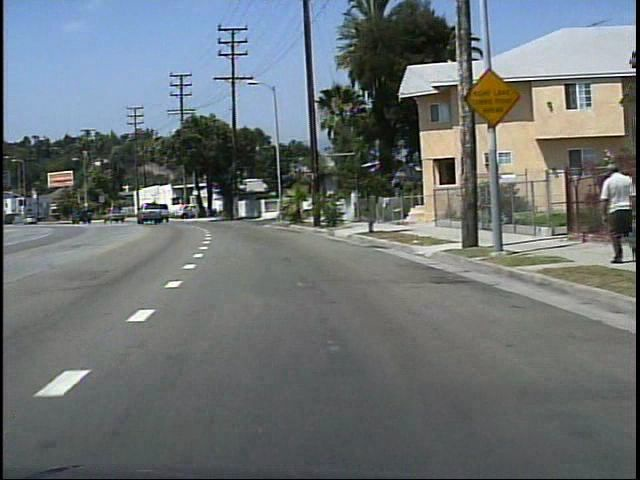person: (591, 161, 632, 267)
